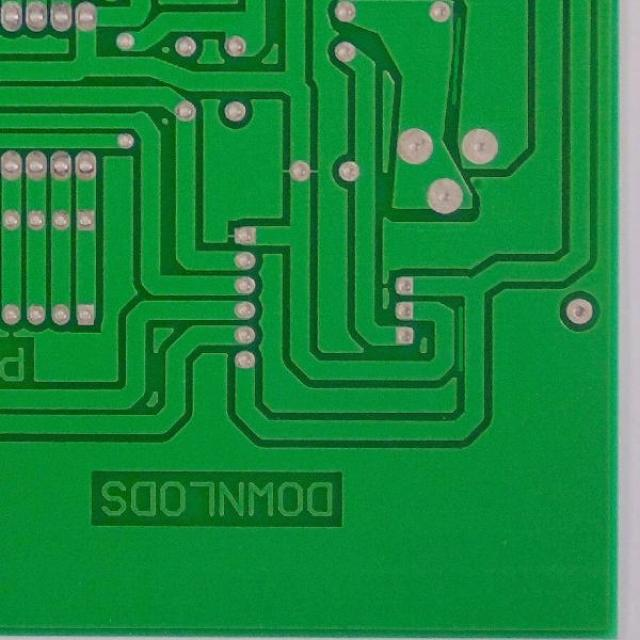spurious_copper: (448, 16, 469, 107), (455, 303, 466, 372)
